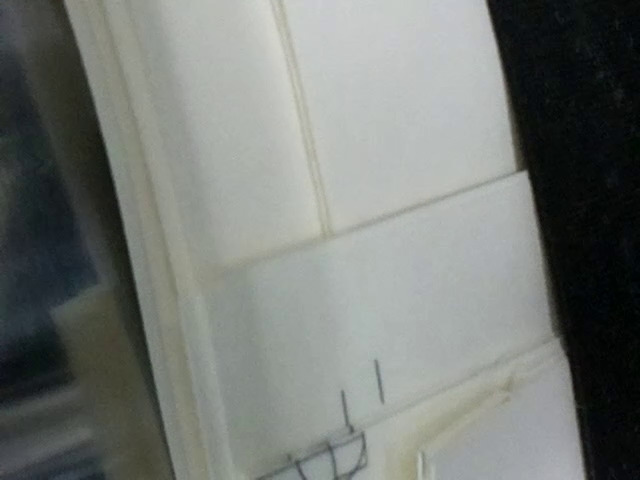not_sure: (257, 388, 377, 480)
